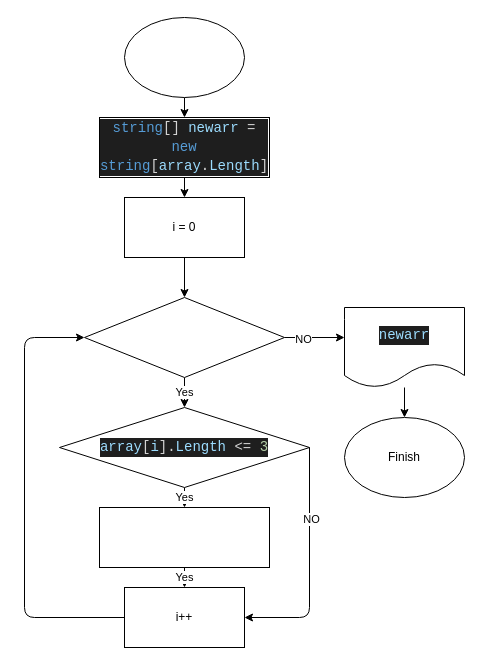
This 482x665 diagram has some shape labels left out. The shapes that lost their labels are listed below. From the top down, each one's centre as x and y in pixels, then its label:
At (184,57): "Start".
At (184,337): "i < array . Length".
At (184,537): "newarr [ i ] = array [ i ]".
